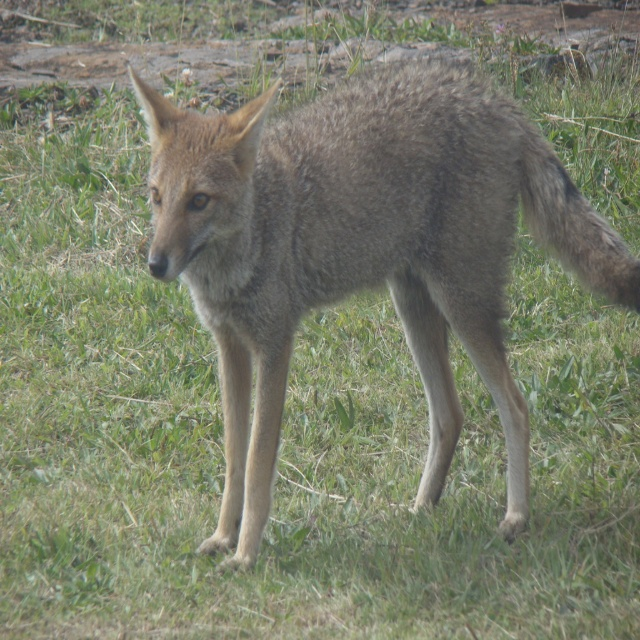Fox: (128, 53, 640, 578)
